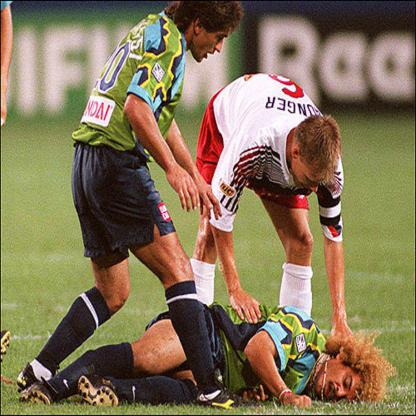face: (321, 365, 368, 401), (197, 26, 231, 66), (293, 164, 328, 192)
